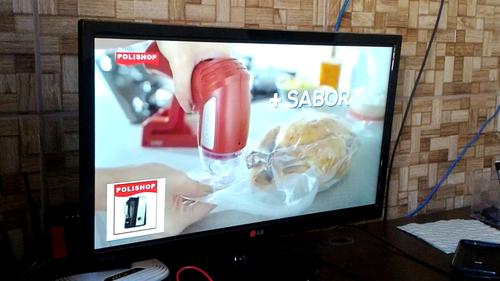Polishop #1: (105, 175, 166, 241)
